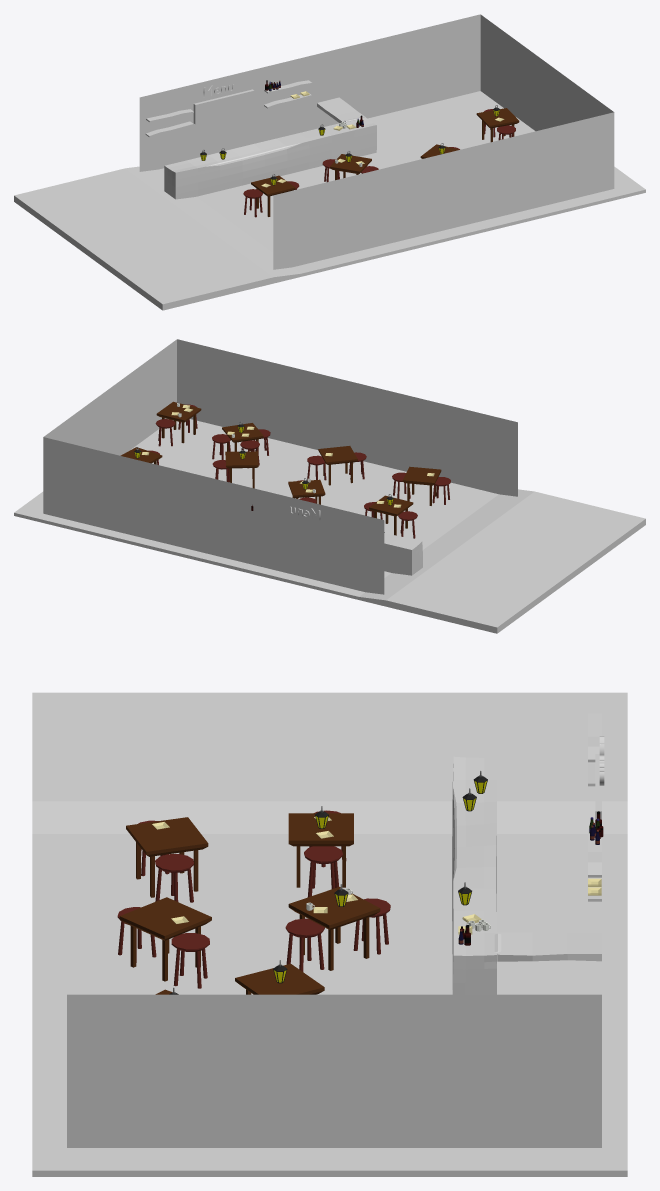
Rendered from баршаблон.fbx.
3 renders of one model, top to bottom at view 1: azimuth 30°, elevation 25°; view 2: azimuth 150°, elevation 25°; view 3: azimuth 270°, elevation 25°, orthographic. The views are drawn at different scales.
Parts seen in each view (by area): view 1: Cube.021, Куб.005, Куб, Куб.001; view 2: Cube.021, Куб.002, Куб.003, Куб.007, Куб, Куб.004, Куб.001, Куб.006; view 3: Cube.021, Куб.003, Куб.002, Куб.001, Куб, Куб.004, Цилиндр.008, Цилиндр.003, Цилиндр.006, Цилиндр, Цилиндр.004.
Part boxes in pixels (x1=…): Cube.021: x1=14, y1=14, x2=645, y2=310; Куб.005: x1=476, y1=108, x2=519, y2=142; Куб: x1=251, y1=175, x2=295, y2=216; Куб.001: x1=330, y1=154, x2=371, y2=180; Cube.021: x1=14, y1=339, x2=645, y2=633; Куб.002: x1=402, y1=466, x2=441, y2=505; Куб.003: x1=318, y1=446, x2=357, y2=485; Куб.007: x1=156, y1=401, x2=201, y2=443; Куб: x1=369, y1=495, x2=413, y2=535; Куб.004: x1=225, y1=451, x2=258, y2=488; Куб.001: x1=288, y1=479, x2=325, y2=504; Куб.006: x1=222, y1=423, x2=263, y2=452; Cube.021: x1=32, y1=692, x2=627, y2=1176; Куб.003: x1=119, y1=897, x2=211, y2=981; Куб.002: x1=126, y1=817, x2=208, y2=897; Куб.001: x1=288, y1=887, x2=380, y2=970; Куб: x1=288, y1=813, x2=353, y2=887; Куб.004: x1=235, y1=963, x2=324, y2=994; Цилиндр.008: x1=171, y1=933, x2=209, y2=988; Цилиндр.003: x1=285, y1=918, x2=324, y2=971; Цилиндр.006: x1=155, y1=854, x2=193, y2=902; Цилиндр: x1=304, y1=846, x2=343, y2=897; Цилиндр.004: x1=353, y1=898, x2=390, y2=954.
Size of the model in its own units: 3421 by 572 by 1824.
